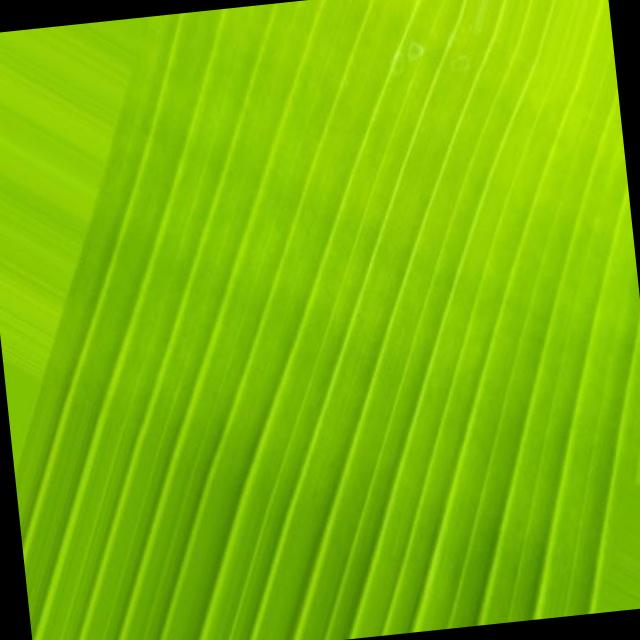Banana_Healthy: (67, 1, 640, 640)
